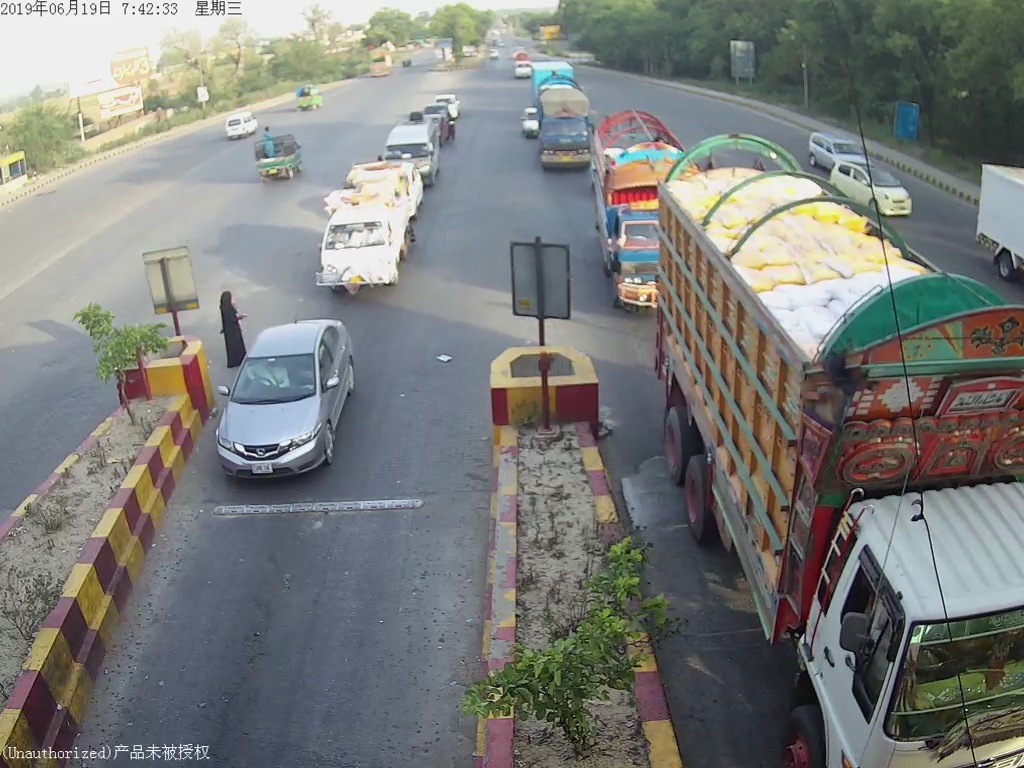Cat-1: (212, 322, 365, 475)
Cat-2: (321, 185, 433, 298)
Cat-4: (641, 131, 1016, 768), (534, 78, 594, 170)
